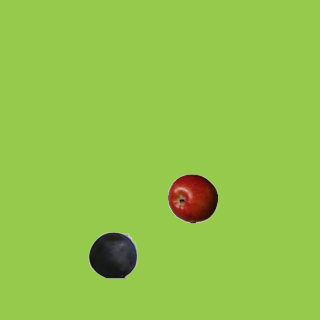Apple Braeburn: (167, 173, 217, 223)
Grape Blue: (87, 229, 137, 279)
